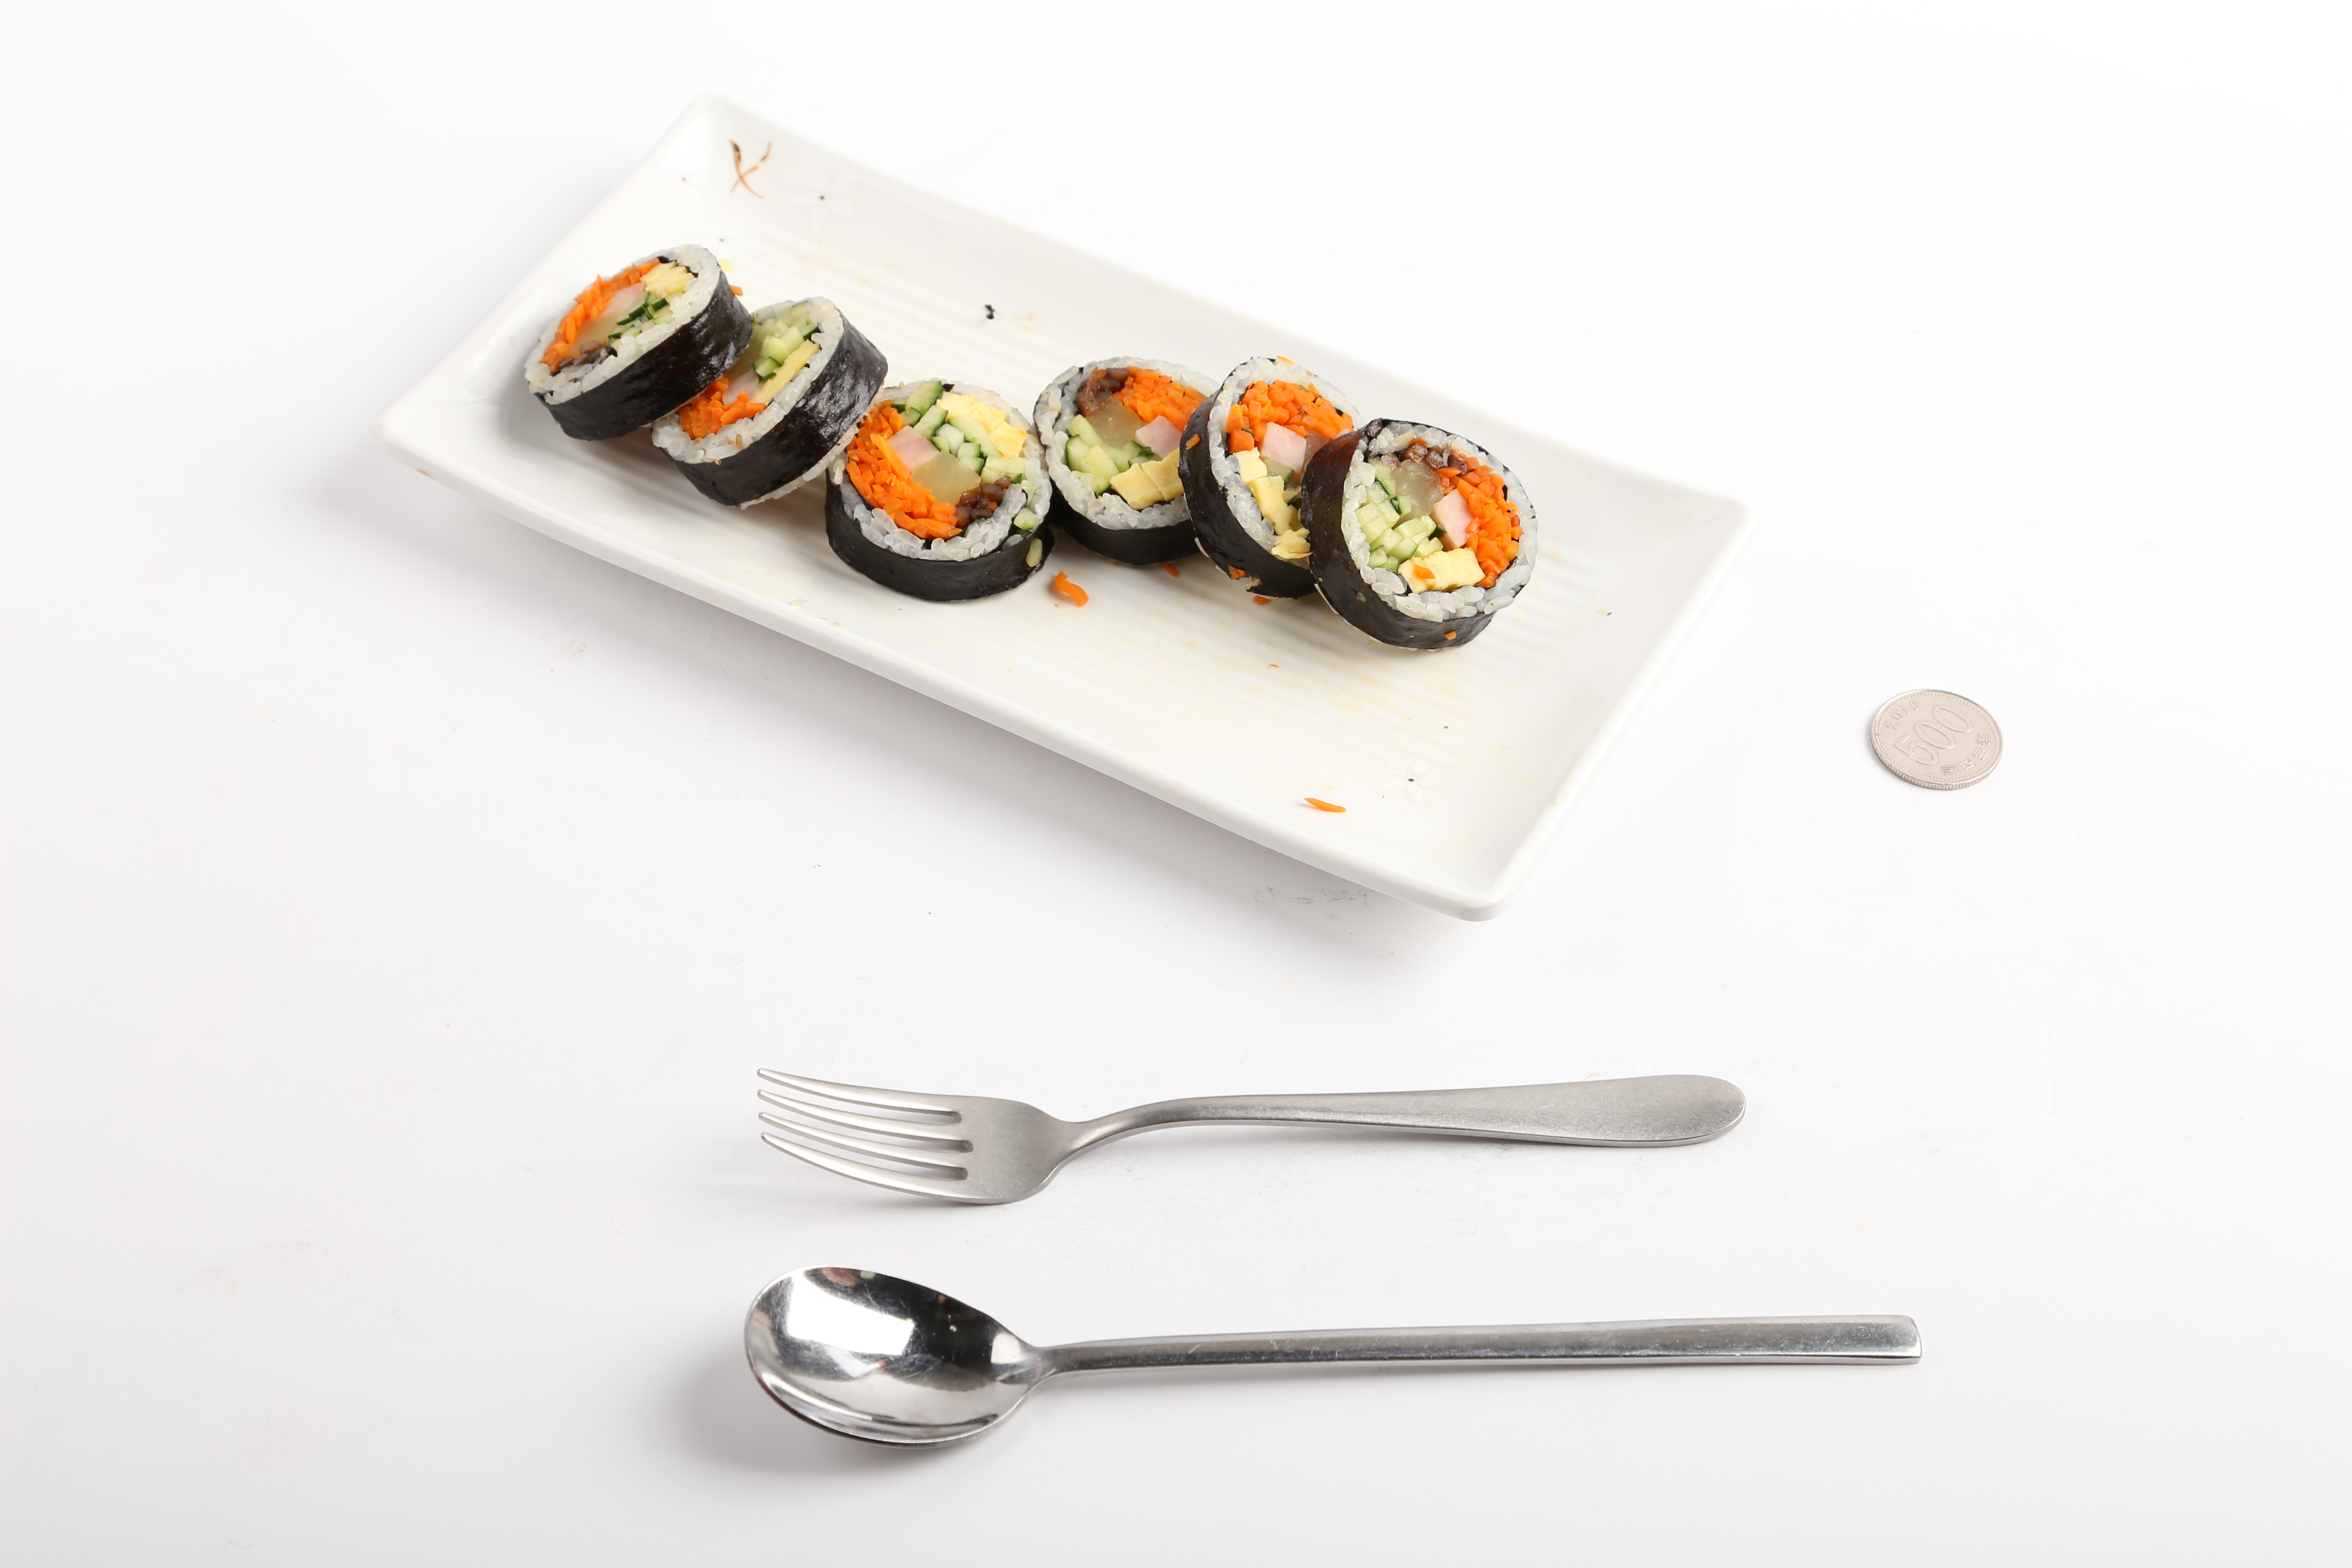dish: (373, 84, 1750, 927)
ref_coin: (1862, 684, 2012, 789)
ref_fork: (749, 1062, 1174, 1204)
ref_spoon: (740, 1267, 1207, 1452)
김밥: (518, 236, 1543, 656)
